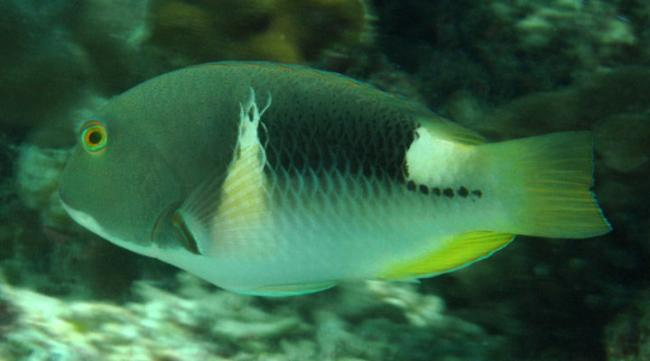fish: (58, 60, 612, 300)
